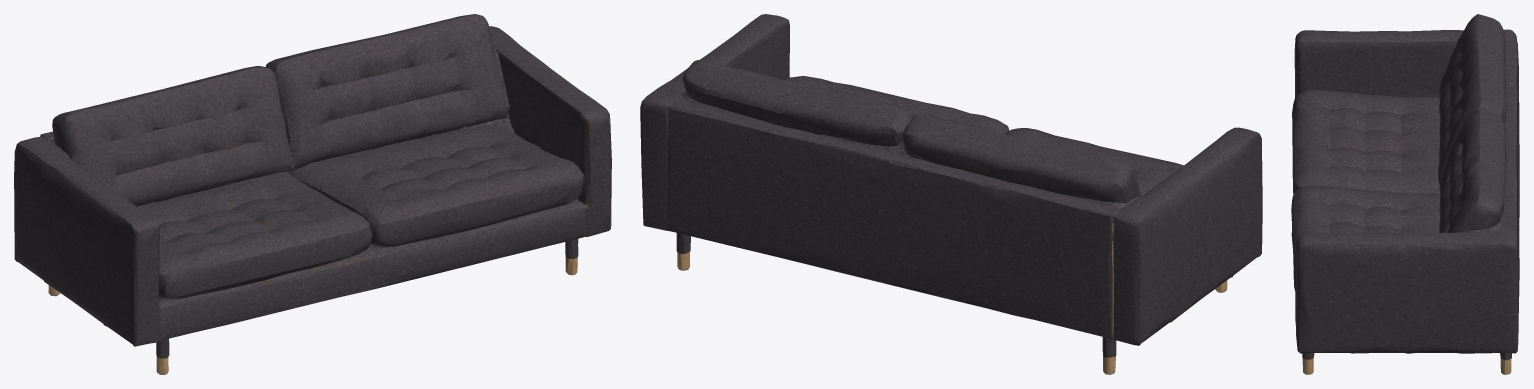
File: 03 - LANDSKRONA - 三人座沙發，Gunnared 深灰色木材 IKEA 線上購物.glb
3 views of the same model, side by side, from view 1: azimuth 30°, elevation 25°; view 2: azimuth 150°, elevation 25°; view 3: azimuth 270°, elevation 25° (orthographic). The views are drawn at different scales.
Parts seen in each view (by area): view 1: ProcessedMeshNode; view 2: ProcessedMeshNode; view 3: ProcessedMeshNode.
Part boxes in pixels (x1,y1,x2,y2): ProcessedMeshNode: [14, 14, 611, 374]; ProcessedMeshNode: [640, 14, 1262, 374]; ProcessedMeshNode: [1291, 14, 1519, 374].
Bounding box in the file's own units: 2.05 × 0.7762 × 0.9088.
1 material, 1 textured.
